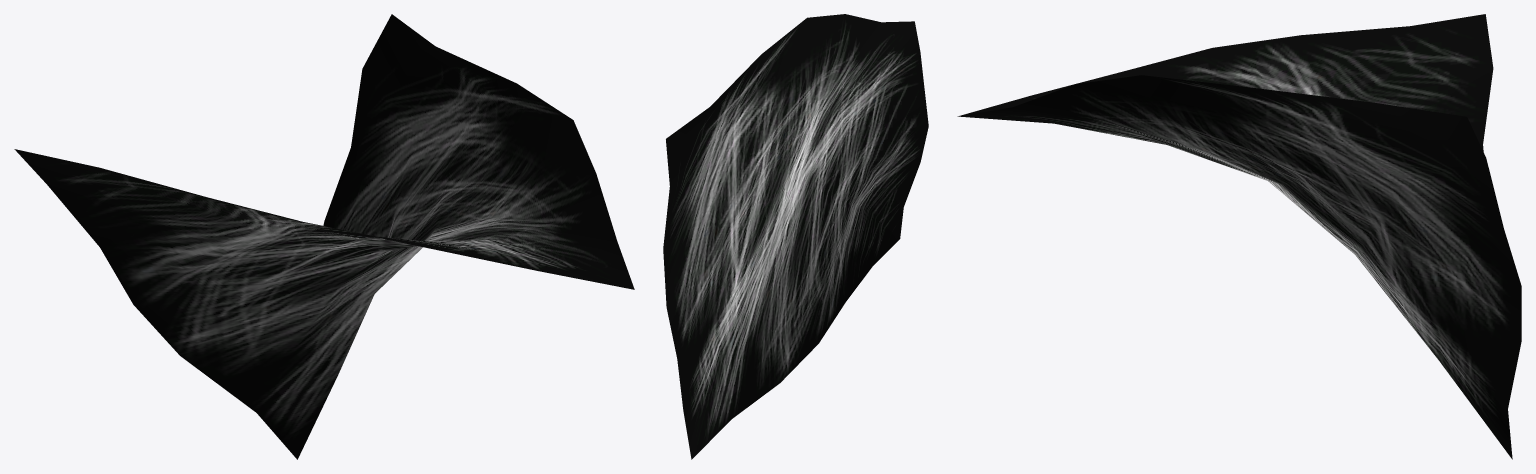
The model's file is SWORDLIGHT20_PS-AREA01_CORNERWEB13.fbx.
3 renders of one model, left to right at view 1: azimuth 30°, elevation 25°; view 2: azimuth 150°, elevation 25°; view 3: azimuth 270°, elevation 25°, orthographic. The views are drawn at different scales.
Parts seen in each view (by area): view 1: SWORDLIGHT20_PS-AREA01_CORNERWEB13; view 2: SWORDLIGHT20_PS-AREA01_CORNERWEB13; view 3: SWORDLIGHT20_PS-AREA01_CORNERWEB13.
Boxes of the visible parts, <box> form: SWORDLIGHT20_PS-AREA01_CORNERWEB13: <box>14,14,634,459</box>; SWORDLIGHT20_PS-AREA01_CORNERWEB13: <box>663,14,928,459</box>; SWORDLIGHT20_PS-AREA01_CORNERWEB13: <box>957,14,1521,459</box>.
Bounding box in the file's own units: 42753 × 54931 × 69393.
Materials: 1 (1 with a texture image).
